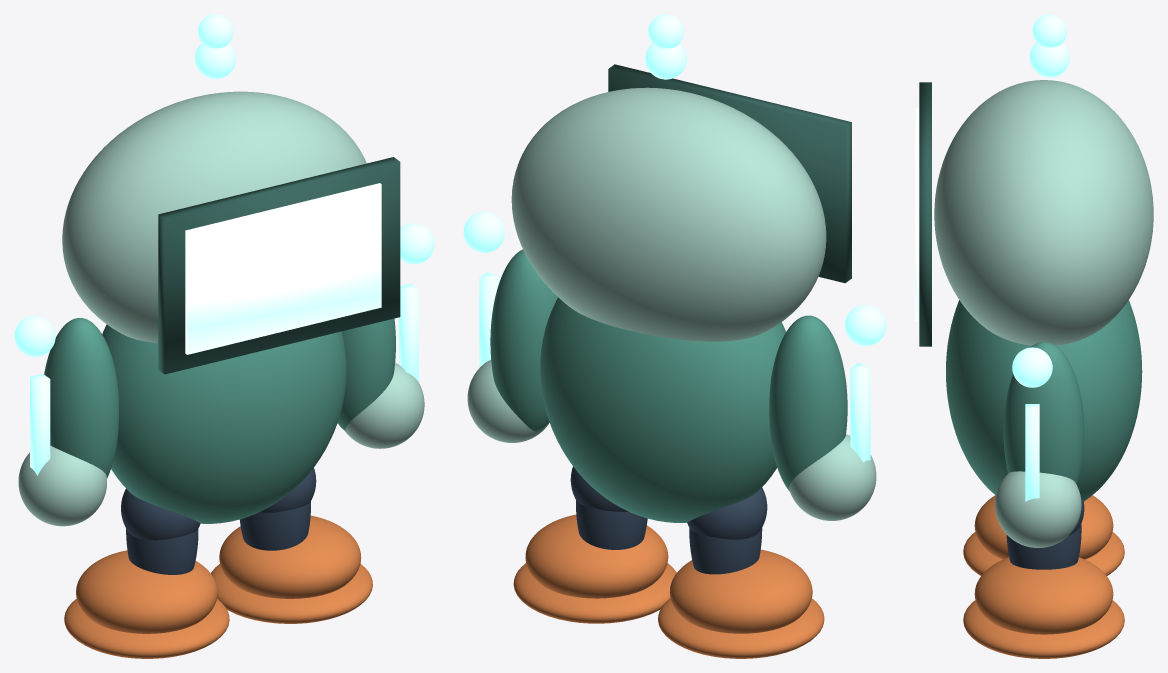
Rendered from jumper.glb.
3 views of the same model, side by side, from view 1: azimuth 30°, elevation 25°; view 2: azimuth 150°, elevation 25°; view 3: azimuth 270°, elevation 25° (orthographic). The views are drawn at different scales.
Parts seen in each view (by area): view 1: head, body, face_screen, face_frame, arm_L, foot_L, foot_R, hand_L, jump_pad_L, jump_pad_R, arm_R, hand_R (+10 smaller); view 2: head, body, face_frame, arm_L, foot_L, arm_R, foot_R, hand_L, jump_pad_L, jump_pad_R, hand_R, leg_R (+9 smaller); view 3: head, body, foot_R, arm_R, hand_R, jump_pad_R, face_frame, foot_L, leg_R, jump_pad_L, energy_trail_R, energy_orb_R (+3 smaller).
Boxes of the visible parts, box(x1,y1,x2,y2) form: head: box(62, 91, 366, 342); body: box(102, 324, 346, 523); face_screen: box(185, 183, 381, 354); face_frame: box(158, 157, 400, 374); arm_L: box(44, 318, 118, 478); foot_L: box(76, 550, 217, 633); foot_R: box(219, 515, 361, 598); hand_L: box(18, 445, 106, 526); jump_pad_L: box(64, 598, 229, 658); jump_pad_R: box(211, 563, 372, 623); arm_R: box(337, 318, 395, 430); hand_R: box(345, 363, 424, 448); head: box(511, 87, 826, 341); body: box(540, 297, 785, 522); face_frame: box(608, 64, 851, 283); arm_L: box(769, 315, 847, 491); foot_L: box(669, 549, 812, 633); arm_R: box(490, 249, 558, 431); foot_R: box(525, 514, 668, 598); hand_L: box(789, 434, 876, 520); jump_pad_L: box(658, 598, 824, 658); jump_pad_R: box(513, 563, 676, 623); hand_R: box(467, 360, 549, 442); leg_R: box(576, 500, 647, 549); head: box(934, 80, 1153, 345); body: box(946, 300, 1142, 501); foot_R: box(974, 557, 1113, 634); arm_R: box(1003, 342, 1084, 484); hand_R: box(995, 471, 1081, 547); jump_pad_R: box(963, 600, 1124, 658); face_frame: box(919, 82, 931, 346); foot_L: box(974, 495, 1113, 559); leg_R: box(1006, 524, 1081, 569); jump_pad_L: box(963, 532, 1124, 575); energy_trail_R: box(1025, 404, 1039, 501); energy_orb_R: box(1012, 347, 1052, 387).
Size of the model in its own units: 0.7776 by 1.08 by 0.3965.
